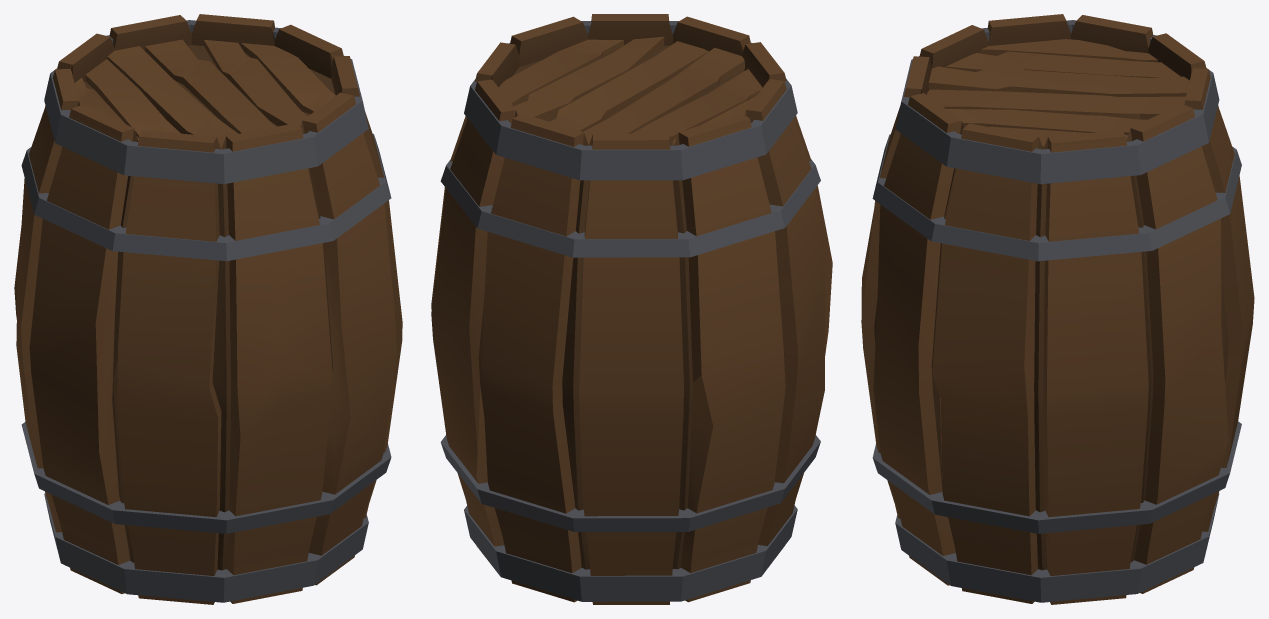
The model's file is Barrel.gltf.
The picture shows the model from 3 angles, left to right: view 1: azimuth 30°, elevation 25°; view 2: azimuth 150°, elevation 25°; view 3: azimuth 270°, elevation 25°; orthographic projection.
Visible parts, largest first — view 1: Barrel; view 2: Barrel; view 3: Barrel.
Part boxes in pixels (<box>): Barrel: <box>14,14,402,604</box>; Barrel: <box>431,14,832,604</box>; Barrel: <box>861,14,1254,604</box>.
Bounding box in the file's own units: 0.1582 × 0.2043 × 0.1568.
